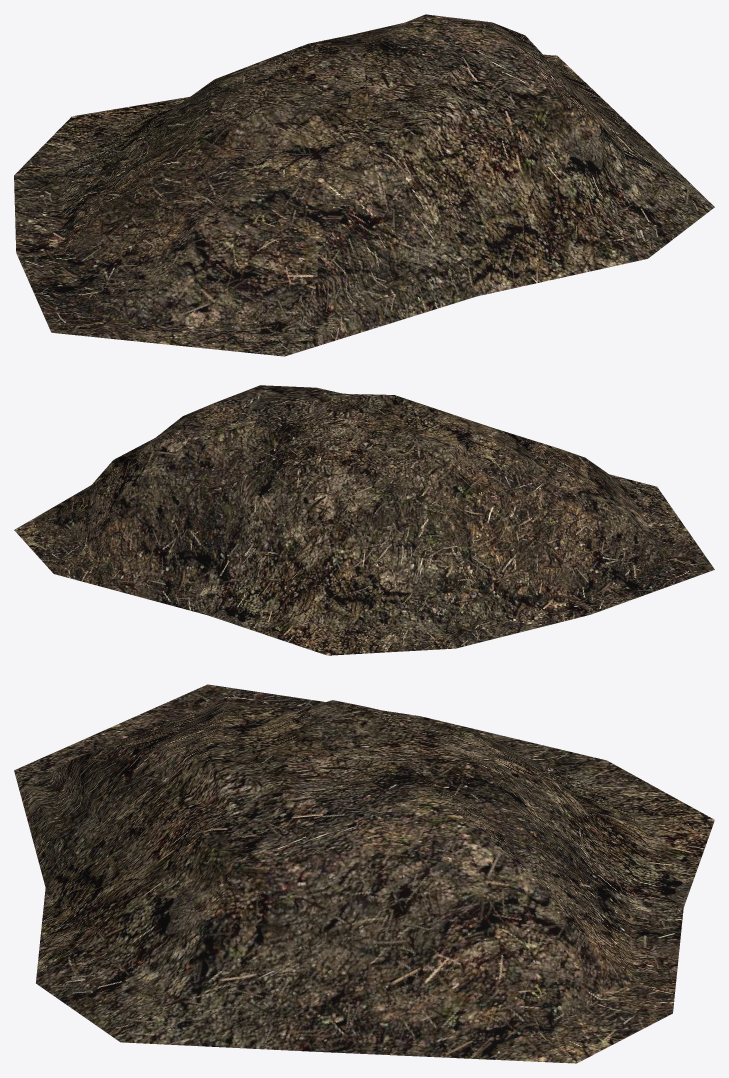
Rendered from KM_DIRT_01.glb.
The picture shows the model from 3 angles, top to bottom: view 1: azimuth 30°, elevation 25°; view 2: azimuth 150°, elevation 25°; view 3: azimuth 270°, elevation 25°; orthographic projection. The views are drawn at different scales.
Visible parts, largest first — view 1: Mesh; view 2: Mesh; view 3: Mesh.
Part boxes in pixels (box(x1,y1,x2,y2)): Mesh: box(14, 14, 714, 356); Mesh: box(14, 385, 714, 655); Mesh: box(14, 684, 714, 1063).
Size of the model in its own units: 2.09 by 0.3817 by 1.64.
1 material, 1 textured.
